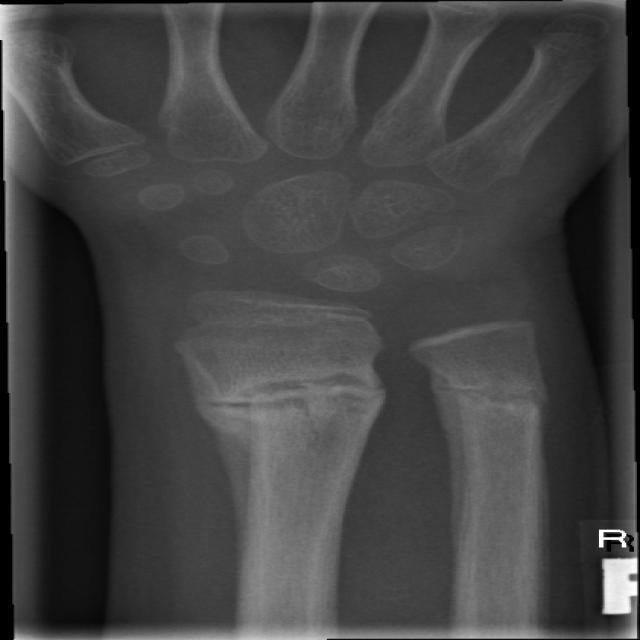radius fracture: (168, 344, 400, 485)
ulna fracture: (417, 346, 564, 474)
